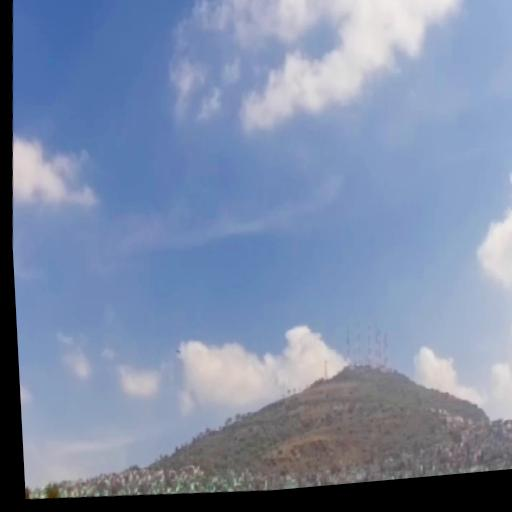drones: (170, 342, 186, 363)
